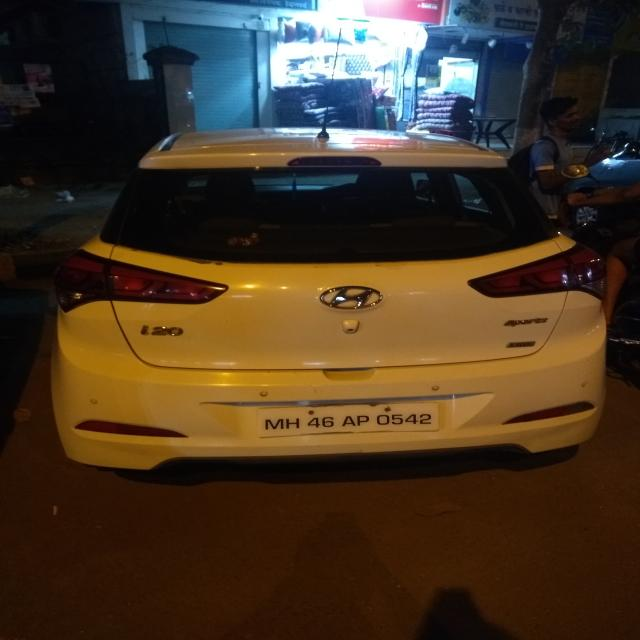Number-Plate: (259, 403, 442, 434)
